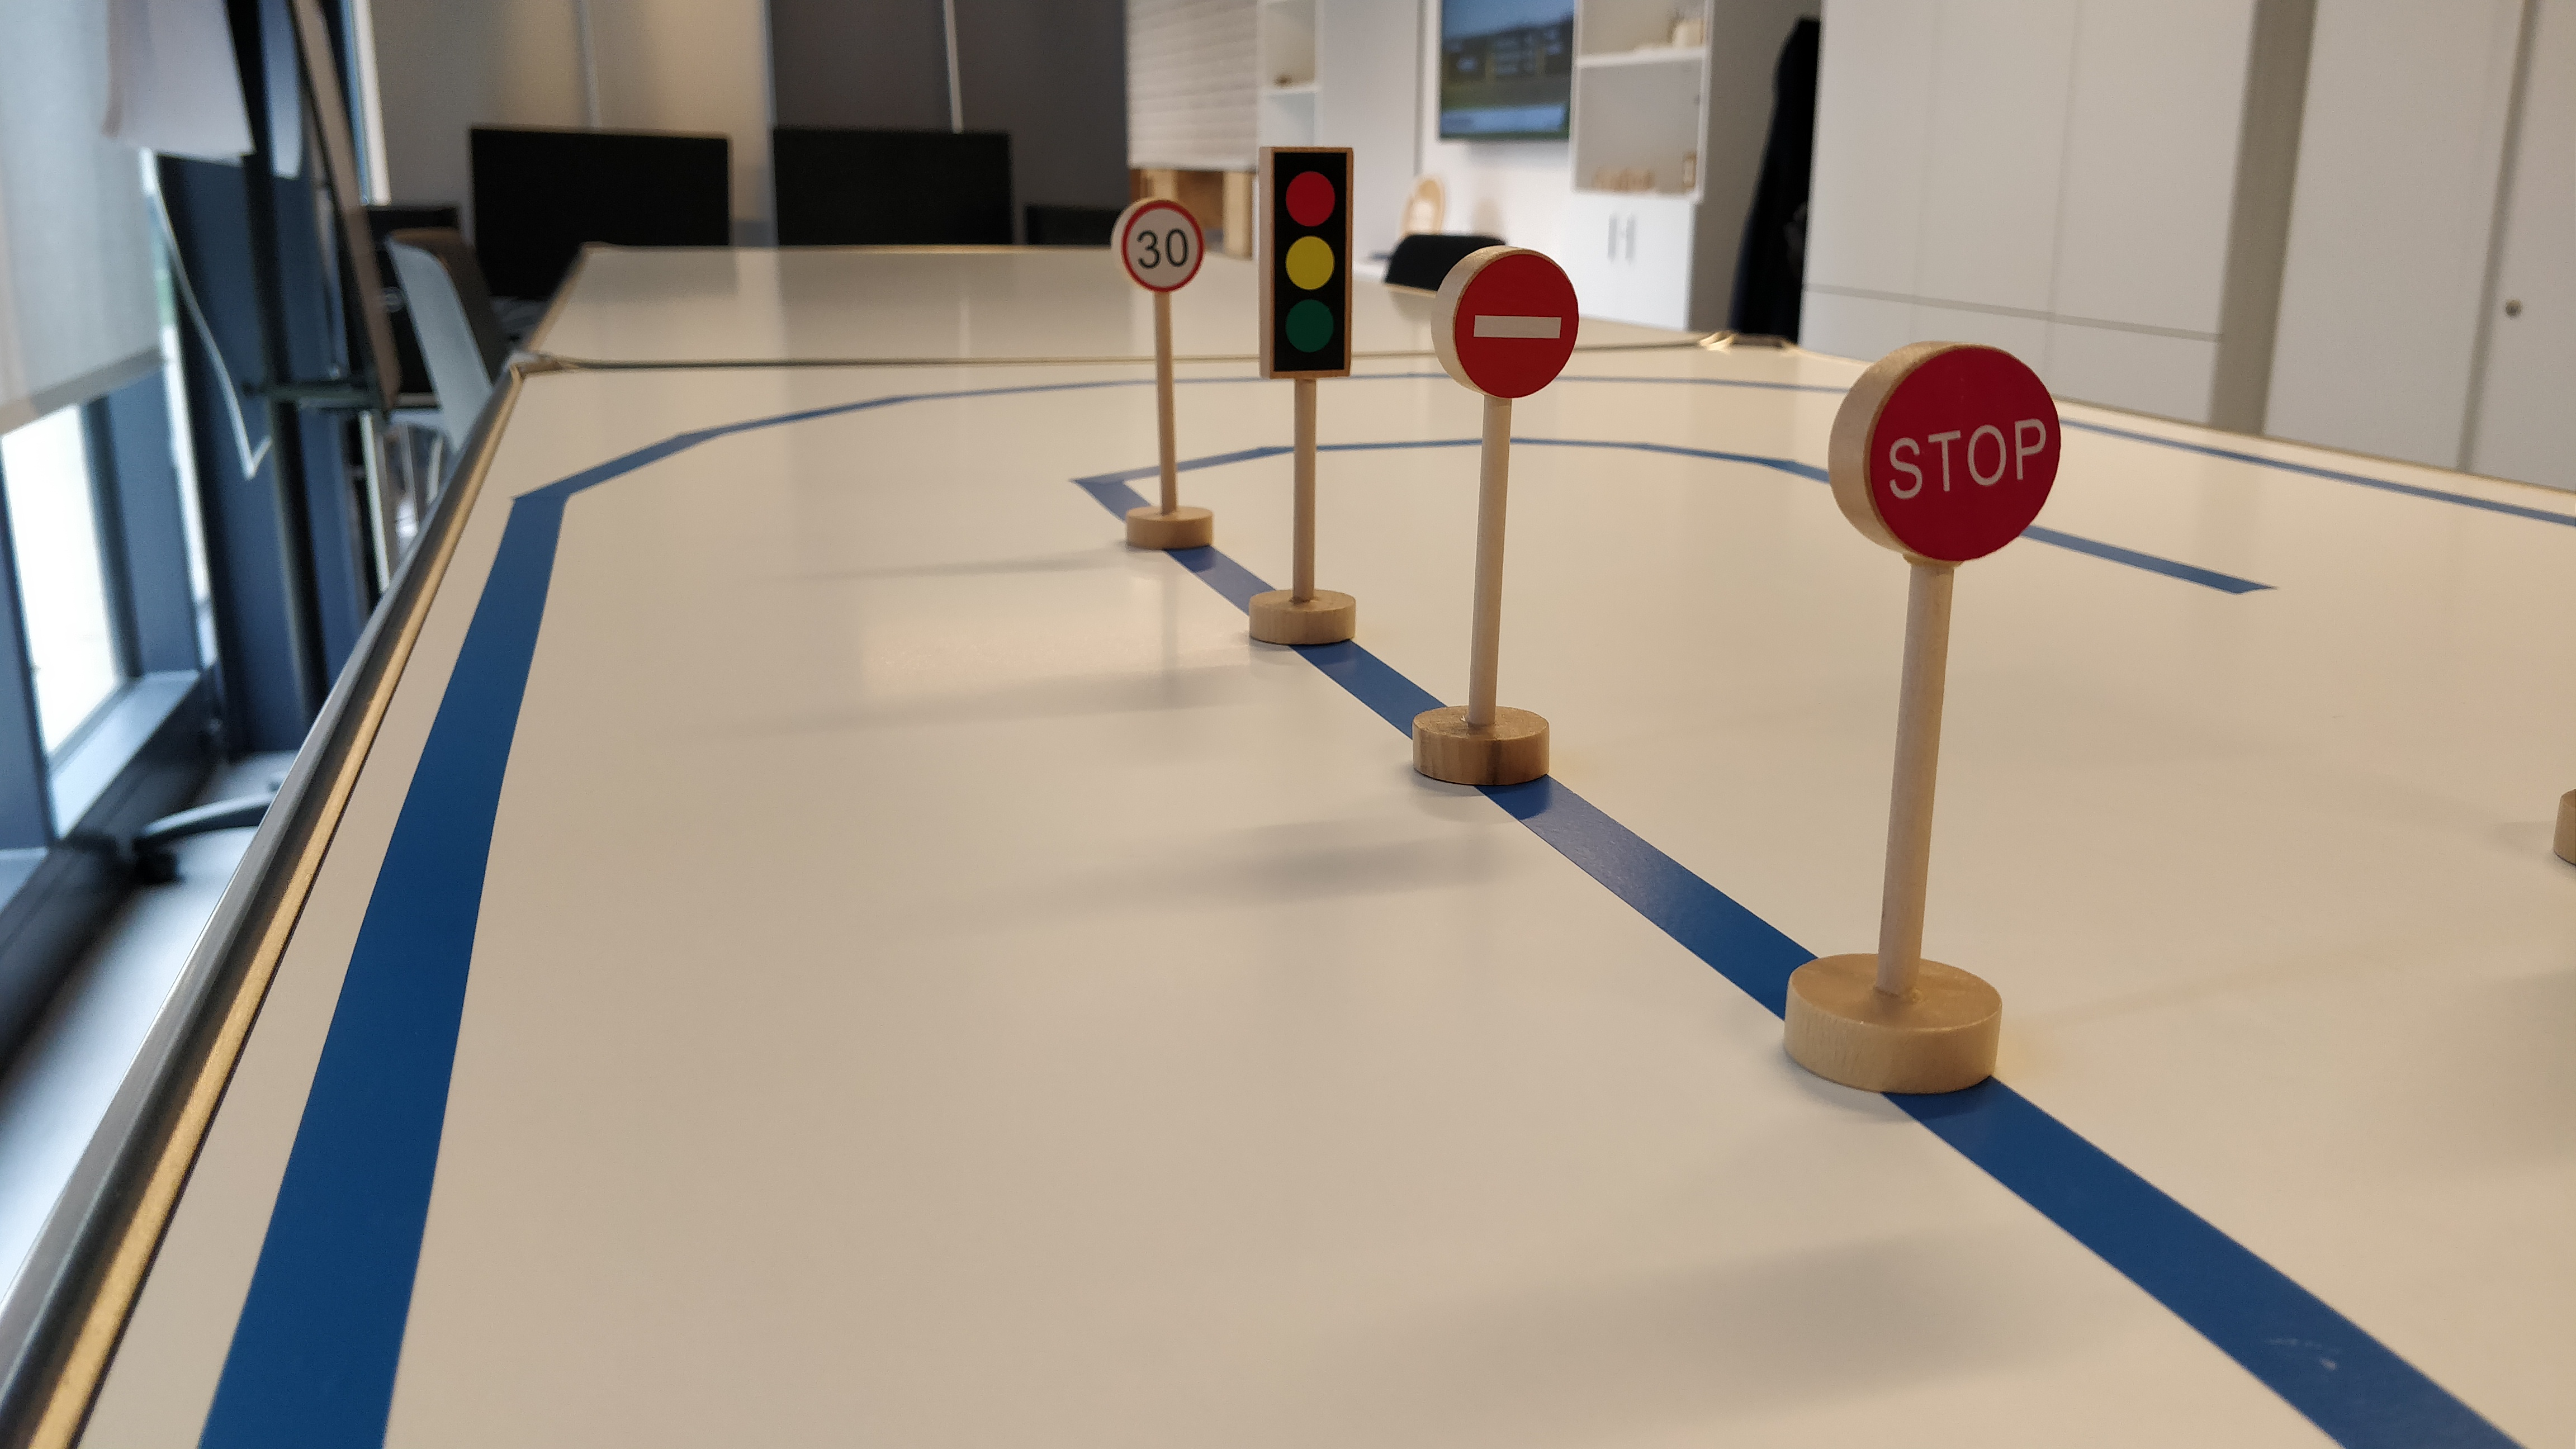Prohibition Sign: (1429, 244, 1583, 400)
Speed Limit 30: (1109, 194, 1207, 297)
Stop Sign: (1828, 337, 2067, 572)
Traffic Light: (1253, 143, 1358, 381)
